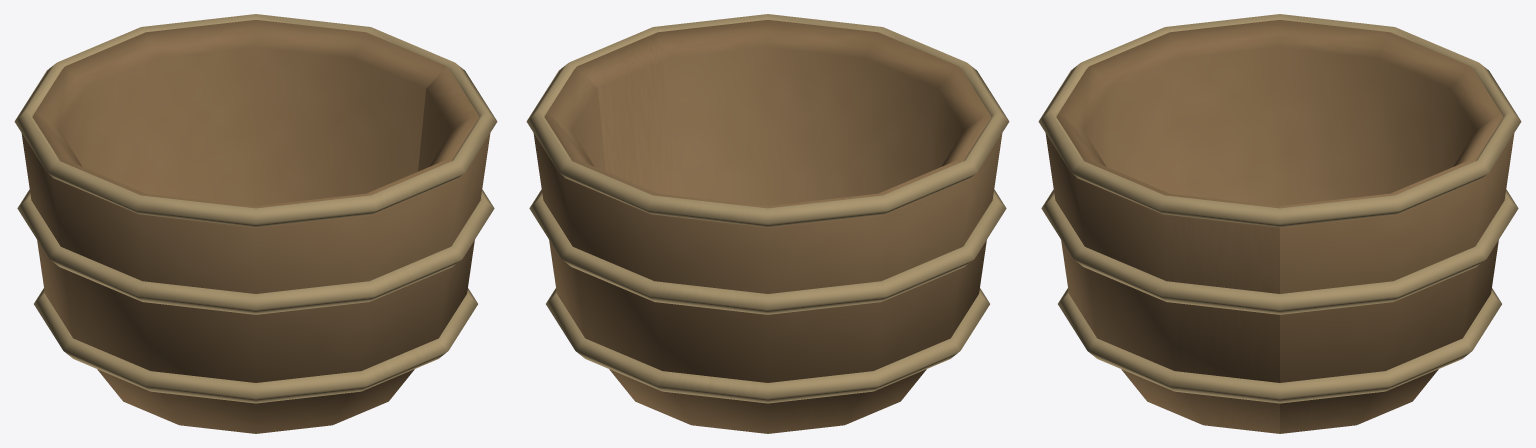
The model's file is s03-korb.glb.
The picture shows the model from 3 angles, left to right: view 1: azimuth 30°, elevation 25°; view 2: azimuth 150°, elevation 25°; view 3: azimuth 270°, elevation 25°; orthographic projection.
Parts seen in each view (by area): view 1: s03-korb; view 2: s03-korb; view 3: s03-korb.
Boxes of the visible parts, bbox=[...] form: s03-korb: bbox=[14, 14, 497, 433]; s03-korb: bbox=[526, 14, 1009, 433]; s03-korb: bbox=[1038, 14, 1521, 433].
Bounding box in the file's own units: 0.504 × 0.297 × 0.504.
1 material, 1 textured.
